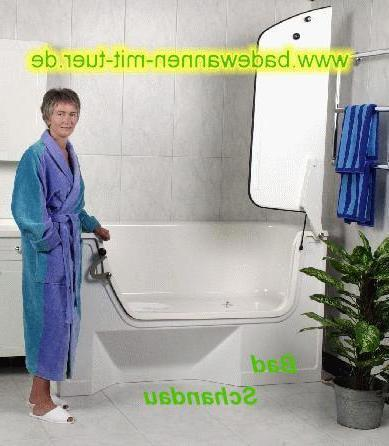Matera: (307, 232, 388, 423)
